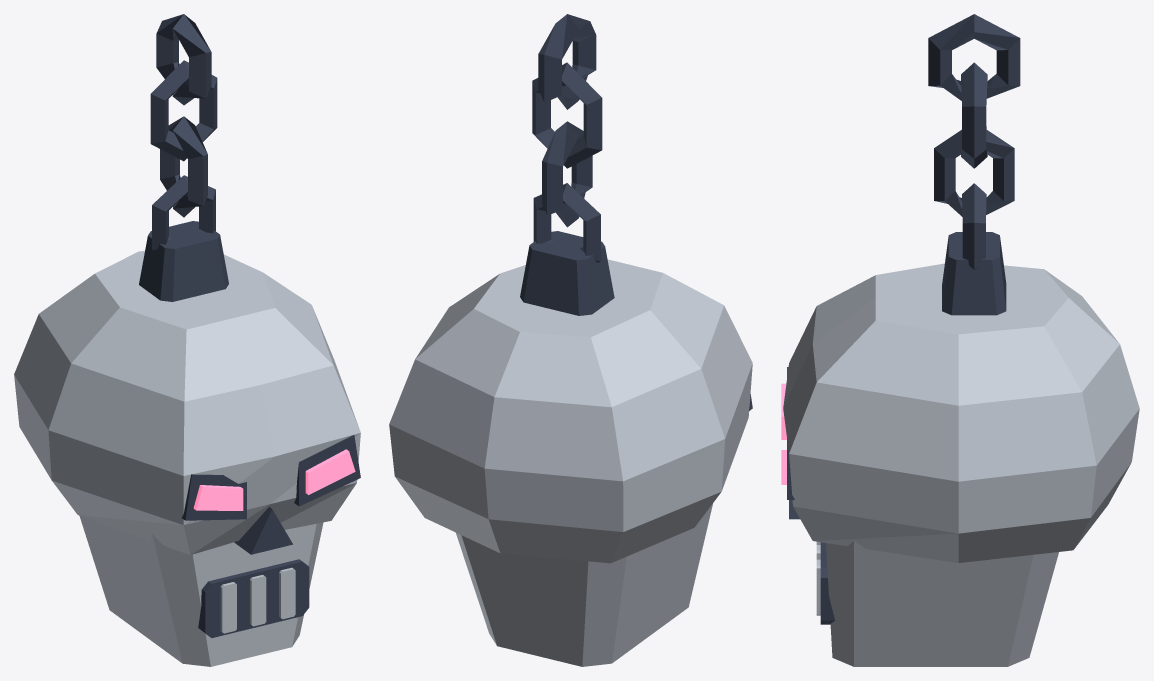
The model's file is AceSkull.fbx.
3 renders of one model, left to right at view 1: azimuth 30°, elevation 25°; view 2: azimuth 150°, elevation 25°; view 3: azimuth 270°, elevation 25°, orthographic. The views are drawn at different scales.
Parts seen in each view (by area): view 1: Body_Skull_Bone, Body_Skull_Dark, Chain, Neon; view 2: Body_Skull_Bone, Chain, Body_Skull_Dark; view 3: Body_Skull_Bone, Chain, Body_Skull_Dark.
Boxes of the visible parts, box(x1,y1,x2,y2) form: Body_Skull_Bone: box(14, 251, 360, 666); Body_Skull_Dark: box(139, 175, 360, 637); Chain: box(150, 14, 217, 217); Neon: box(193, 449, 355, 510); Body_Skull_Bone: box(389, 259, 752, 666); Chain: box(532, 14, 602, 227); Body_Skull_Dark: box(520, 183, 752, 410); Body_Skull_Bone: box(783, 263, 1139, 666); Chain: box(928, 14, 1020, 216); Body_Skull_Dark: box(787, 183, 1006, 624).
Bounding box in the file's own units: 0.176 × 0.3489 × 0.182.
